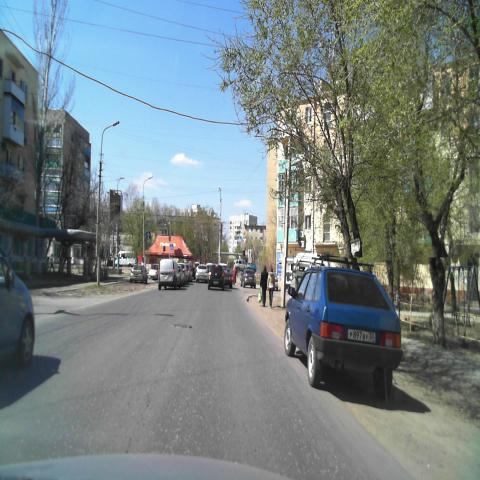2_2: (242, 228, 247, 236)
5_19_1: (238, 236, 242, 243)
5_6: (146, 231, 150, 239)
